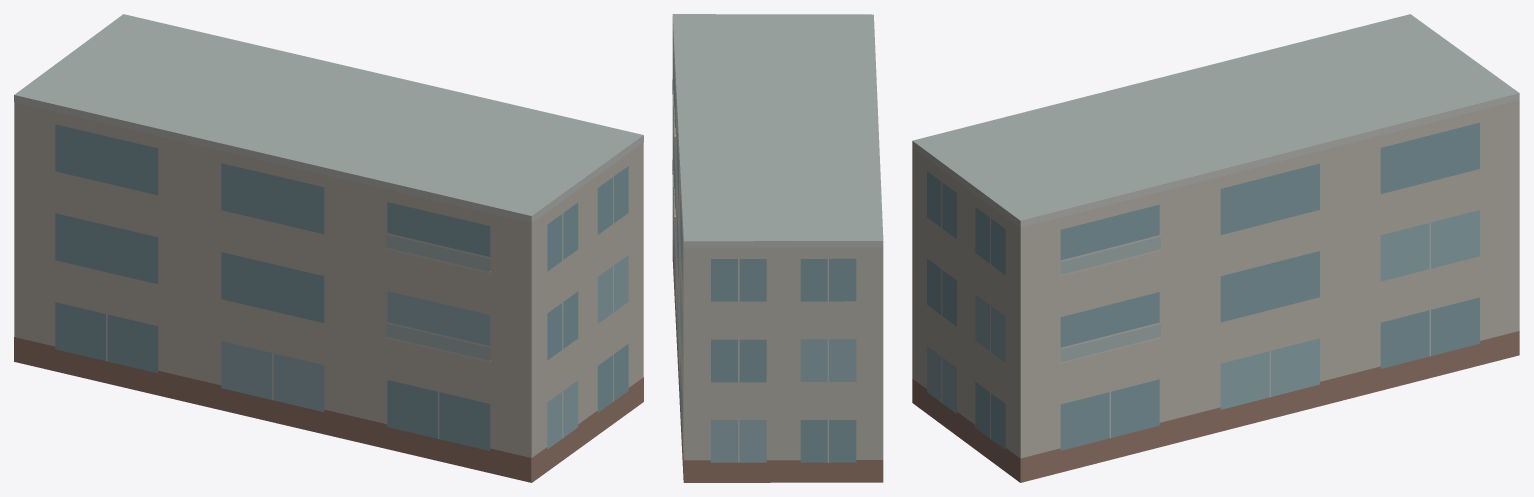
File: survey-upis-32884226.glb
3 views of the same model, side by side, from view 1: azimuth 30°, elevation 25°; view 2: azimuth 150°, elevation 25°; view 3: azimuth 270°, elevation 25° (orthographic). The views are drawn at different scales.
Visible parts, largest first — view 1: survey-upis-32884226.tmp; view 2: survey-upis-32884226.tmp; view 3: survey-upis-32884226.tmp.
Part boxes in pixels (left/top/right/bottom): survey-upis-32884226.tmp: left=14, top=14, right=643, bottom=482; survey-upis-32884226.tmp: left=672, top=14, right=883, bottom=482; survey-upis-32884226.tmp: left=912, top=14, right=1519, bottom=482.
Bounding box in the file's own units: 15.48 × 9.15 × 19.22.
